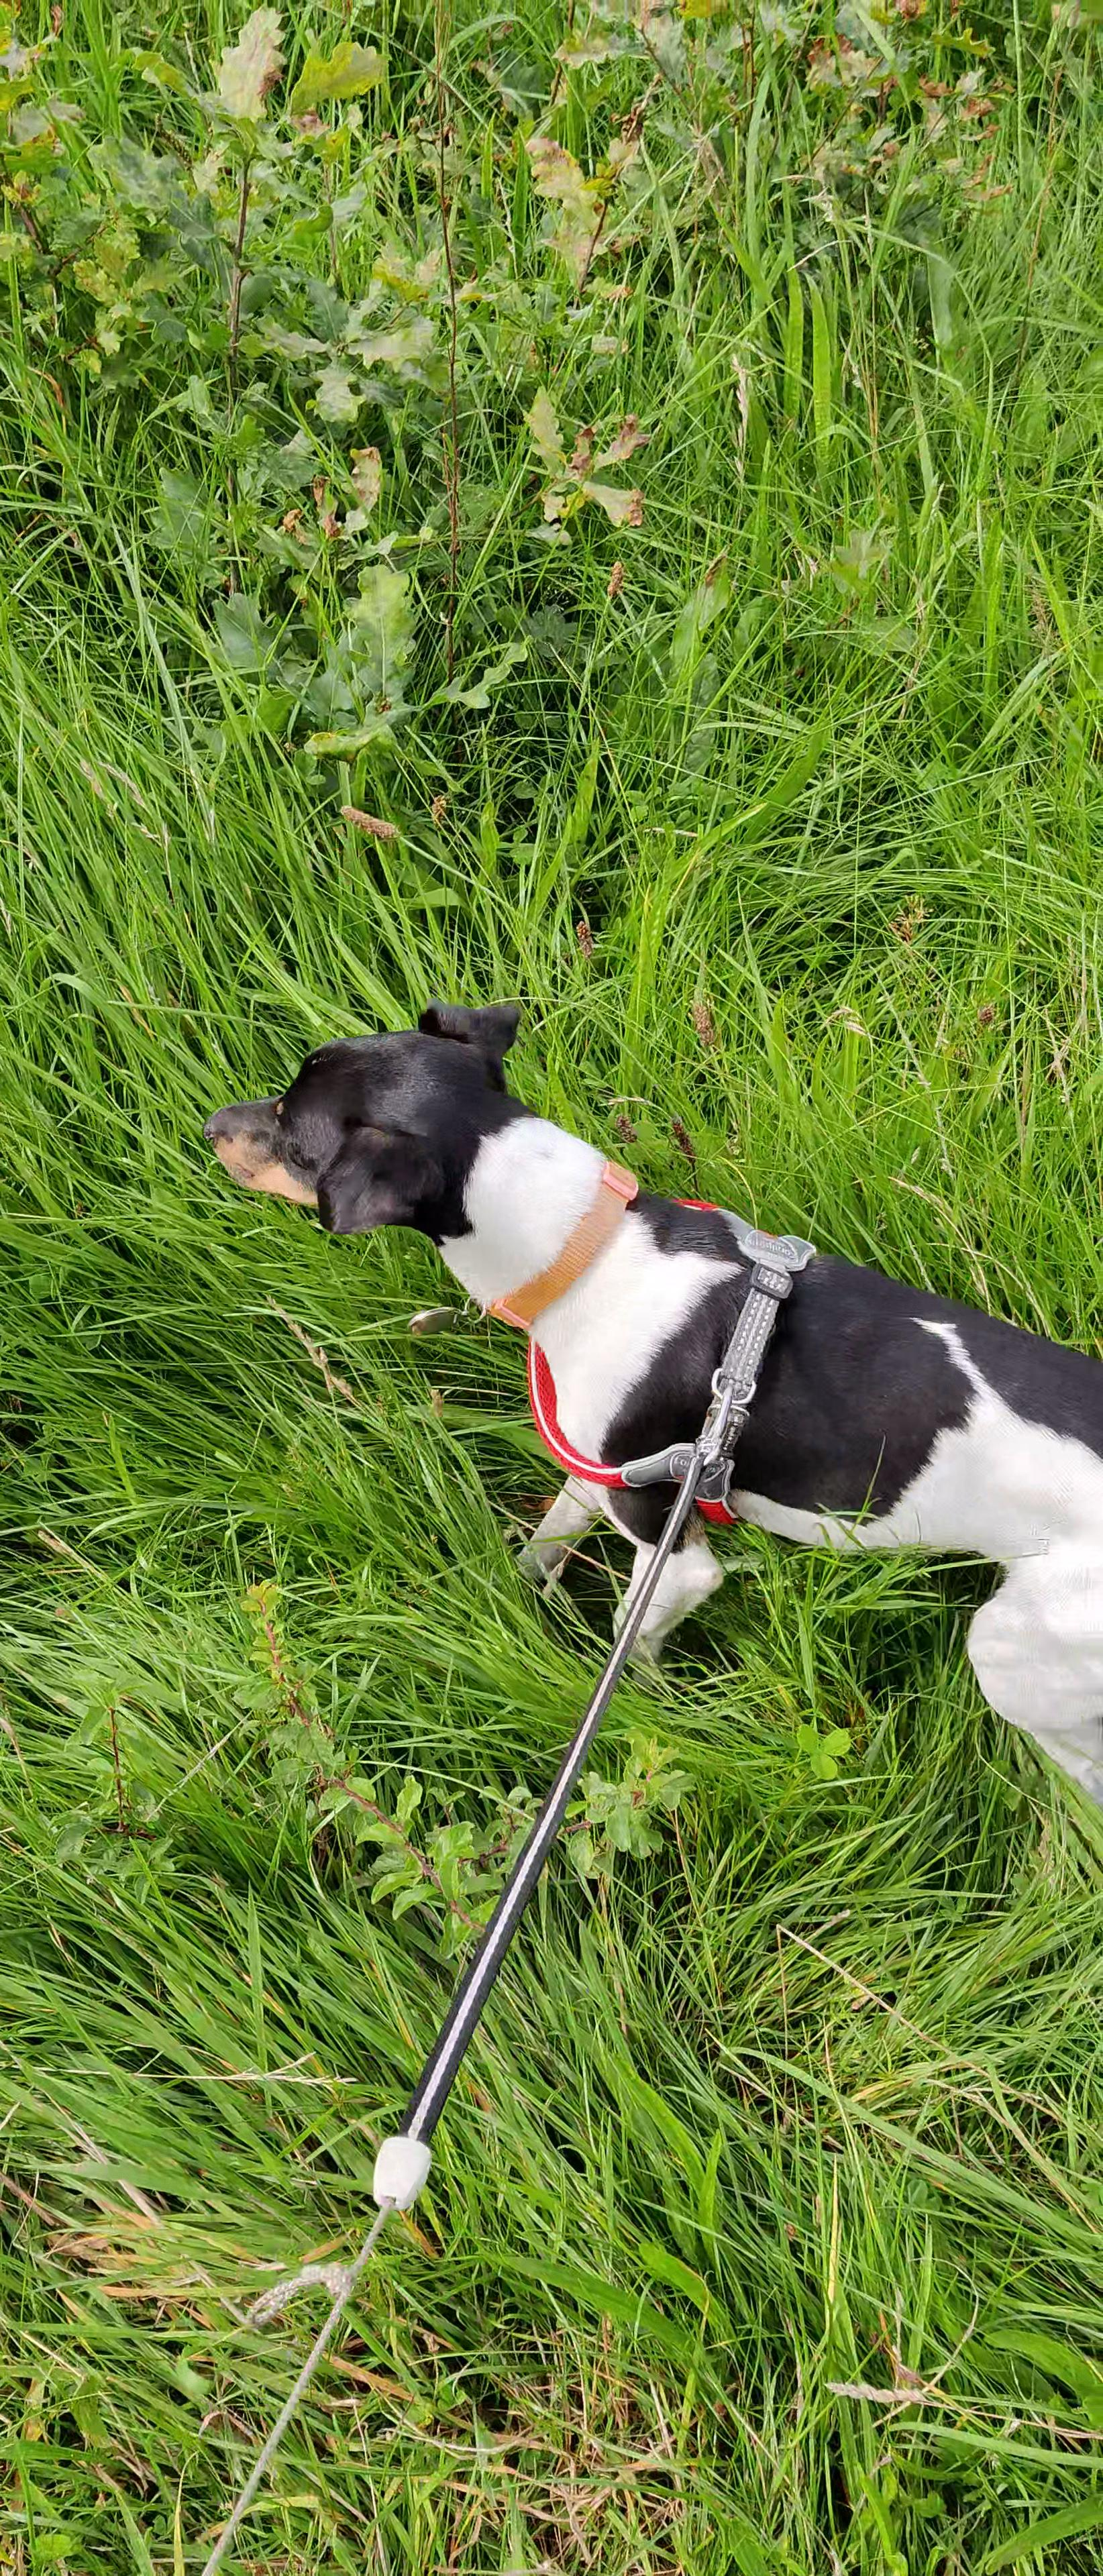Dog: (194, 986, 1103, 1809)
